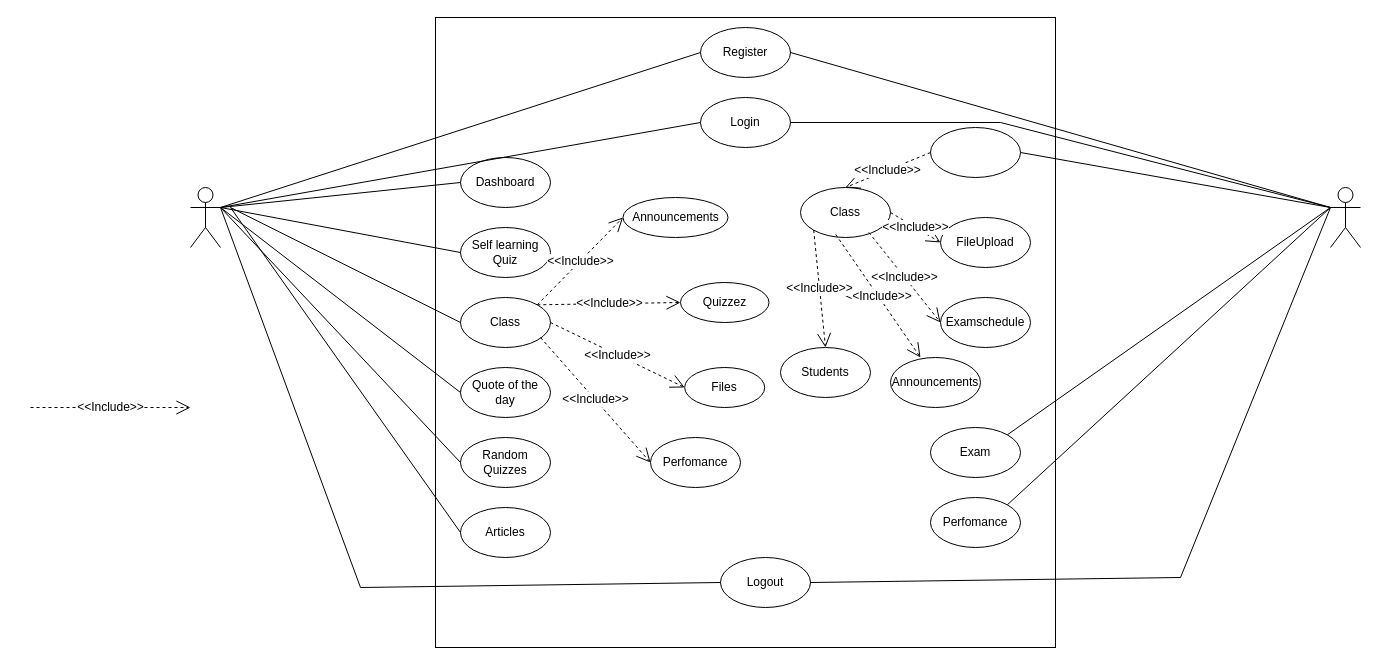
Some shapes in this 1378 by 665 pixel diagram are drawn without their labels. The shapes that lost their labels are listed below. From the top down, each one's centre as x and y in pixels, then its label:
pixel 975 152: Home
pixel 205 217: Student
pixel 1345 217: Actor
